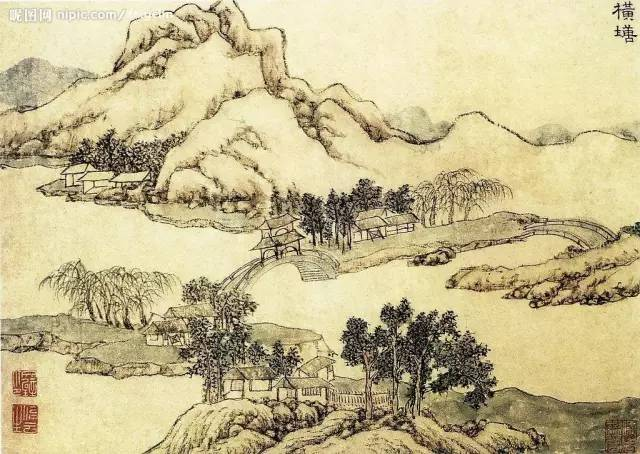booth: (259, 220, 301, 259)
bridge: (222, 252, 336, 289), (534, 220, 600, 243)
hill: (329, 113, 640, 178), (198, 410, 532, 454)
house: (234, 362, 381, 409), (64, 164, 144, 192), (153, 307, 207, 342), (354, 211, 417, 239)
mountain: (132, 17, 339, 191), (2, 60, 132, 131)
river: (514, 308, 639, 392), (4, 170, 50, 318), (75, 217, 216, 265), (51, 377, 152, 443), (352, 268, 449, 305), (259, 293, 342, 324)
tree: (352, 312, 490, 419), (195, 327, 292, 395)
willow: (59, 265, 164, 321)
